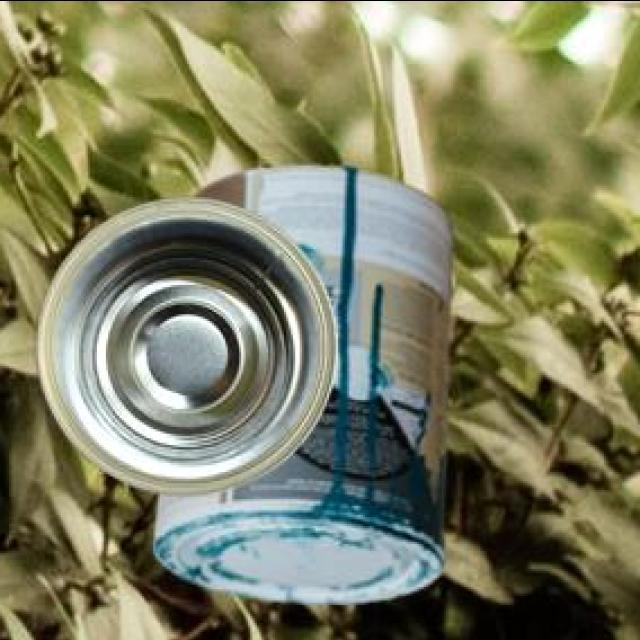logam: (157, 161, 456, 601), (39, 193, 339, 492)
